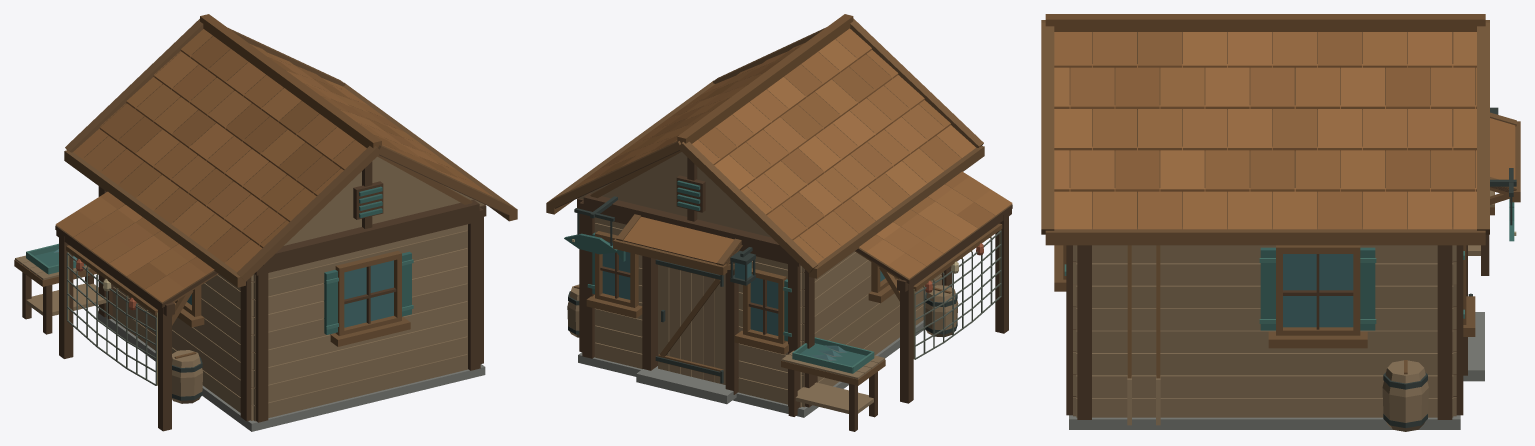
File: FishermansHut.glb
3 renders of one model, left to right at view 1: azimuth 30°, elevation 25°; view 2: azimuth 150°, elevation 25°; view 3: azimuth 270°, elevation 25°, orthographic. The views are drawn at different scales.
Visible parts, largest first — view 1: FishermansHut, FishermansHutGlass; view 2: FishermansHut, FishermansHutDoor, FishermansHutGlass; view 3: FishermansHut, FishermansHutGlass.
Boxes of the visible parts, <box> form: FishermansHut: <box>14,14,517,431</box>; FishermansHutGlass: <box>187,260,393,327</box>; FishermansHut: <box>546,14,1012,431</box>; FishermansHutDoor: <box>655,259,725,384</box>; FishermansHutGlass: <box>602,241,884,335</box>; FishermansHut: <box>1041,14,1520,431</box>; FishermansHutGlass: <box>1283,254,1353,327</box>.
Bounding box in the file's own units: 6.12 × 4.59 × 5.86.
